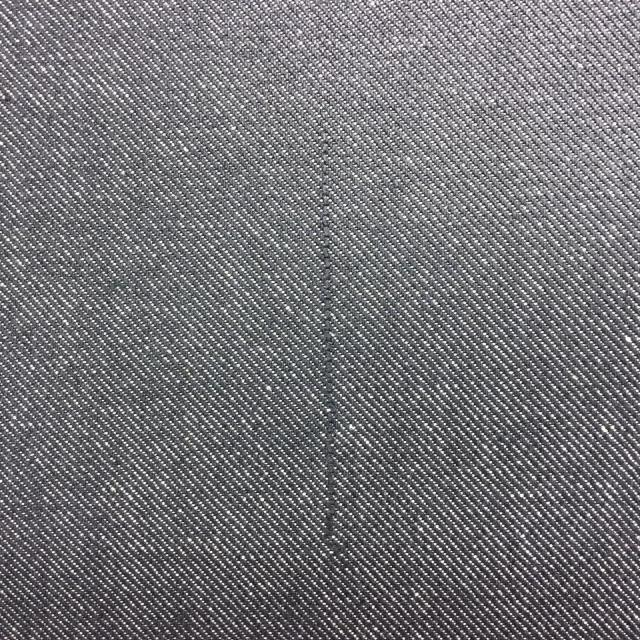Line: (322, 130, 337, 552)
